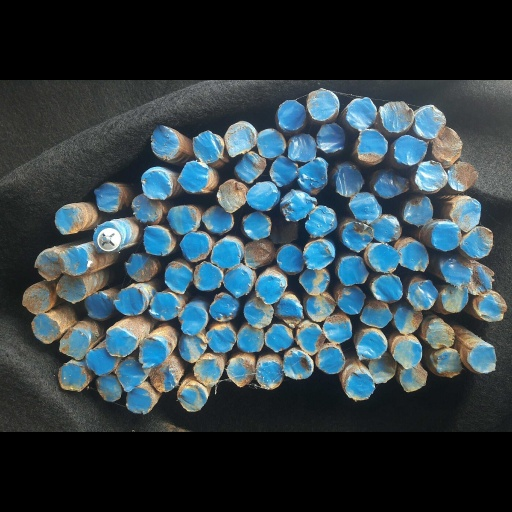dipstick: (414, 104, 446, 139), (357, 128, 388, 164), (414, 160, 448, 192), (441, 251, 473, 285), (371, 168, 409, 196), (379, 101, 412, 133), (398, 239, 430, 272), (140, 169, 174, 200), (149, 125, 177, 162), (435, 127, 463, 164), (192, 130, 224, 162), (473, 290, 505, 322), (336, 255, 368, 287), (141, 225, 174, 256), (360, 299, 393, 330), (281, 188, 314, 219), (451, 196, 481, 230), (151, 358, 181, 392), (130, 194, 163, 224), (85, 345, 115, 378), (306, 88, 336, 121), (346, 97, 376, 130), (58, 246, 89, 277), (306, 206, 338, 236), (341, 221, 373, 251), (226, 122, 255, 155), (395, 134, 428, 163), (105, 327, 138, 356), (124, 253, 155, 283), (430, 219, 460, 250), (425, 317, 455, 348), (407, 279, 436, 311), (233, 152, 266, 180), (57, 363, 87, 393), (467, 343, 497, 373), (30, 314, 61, 343), (462, 225, 491, 256), (349, 192, 378, 223), (368, 353, 397, 384), (178, 332, 207, 363), (430, 349, 462, 377), (302, 240, 334, 268), (166, 206, 199, 233), (59, 329, 88, 359), (372, 213, 401, 243), (316, 123, 345, 153), (298, 160, 327, 190), (372, 273, 402, 302), (346, 372, 376, 401), (323, 315, 353, 344), (193, 357, 223, 386), (224, 268, 254, 297), (35, 249, 63, 280), (448, 161, 476, 192), (255, 275, 286, 303), (283, 350, 312, 379), (225, 357, 254, 386), (53, 206, 83, 234), (179, 162, 207, 192), (368, 244, 398, 272), (357, 332, 387, 360), (268, 156, 296, 186), (203, 206, 233, 234), (211, 240, 241, 268), (118, 362, 146, 392), (94, 183, 121, 214), (403, 197, 434, 224), (336, 165, 363, 196), (288, 134, 319, 161), (393, 340, 424, 367), (180, 234, 211, 261), (467, 261, 493, 293), (168, 206, 200, 232), (305, 293, 334, 321), (177, 384, 206, 412), (179, 305, 207, 334), (217, 181, 245, 210), (212, 240, 241, 268), (193, 262, 222, 290), (115, 288, 145, 315), (278, 99, 305, 129), (209, 293, 236, 323), (150, 292, 180, 319), (55, 276, 86, 302), (82, 293, 114, 318), (94, 375, 122, 403), (257, 128, 284, 157), (394, 305, 421, 334), (336, 287, 365, 314), (21, 286, 51, 312), (243, 301, 273, 327), (164, 263, 190, 293), (93, 225, 121, 252), (255, 359, 282, 387), (243, 211, 270, 239), (276, 245, 302, 274), (299, 268, 328, 294), (296, 323, 322, 352), (138, 339, 164, 367), (269, 218, 298, 243), (239, 324, 264, 353), (206, 328, 235, 353), (442, 286, 469, 312), (398, 366, 426, 391), (276, 297, 301, 325), (123, 389, 151, 414), (244, 239, 268, 268), (317, 347, 343, 373), (265, 324, 291, 350)
